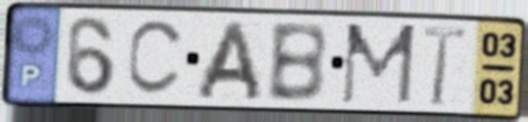6: (63, 13, 120, 99)
A: (191, 18, 266, 103)
B: (264, 19, 330, 105)
C: (124, 18, 189, 99)
M: (338, 21, 419, 107)
T: (420, 22, 469, 109)
